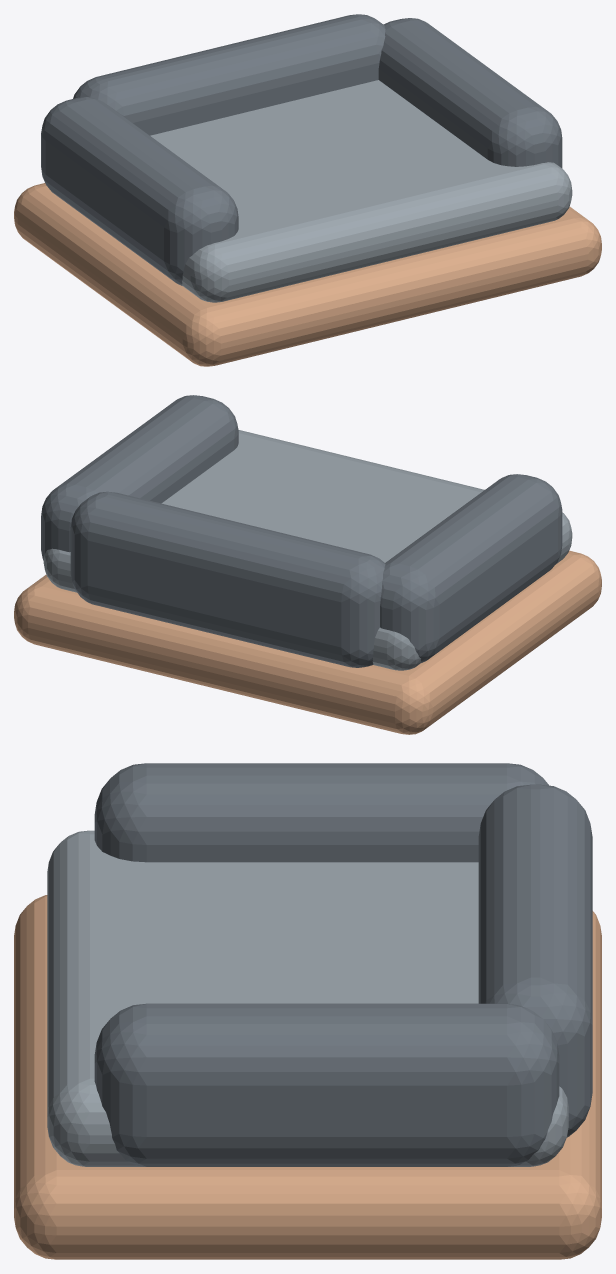
File: cat_sleep_pod.glb
3 views of the same model, one above another, from view 1: azimuth 30°, elevation 25°; view 2: azimuth 150°, elevation 25°; view 3: azimuth 270°, elevation 25° (orthographic). The views are drawn at different scales.
Visible parts, largest first — view 1: shell_002, shell_001, shell_003, shell_005, shell_004; view 2: shell_005, shell_001, shell_002, shell_003, shell_004; view 3: shell_002, shell_004, shell_001, shell_003, shell_005.
Boxes of the visible parts, left/top/right/bottom form: shell_002: left=150, top=80, right=572, bottom=302; shell_001: left=14, top=183, right=601, bottom=366; shell_003: left=41, top=97, right=238, bottom=285; shell_005: left=73, top=14, right=385, bottom=135; shell_004: left=378, top=18, right=562, bottom=168; shell_005: left=70, top=491, right=385, bottom=667; shell_001: left=14, top=550, right=601, bottom=734; shell_002: left=43, top=429, right=572, bottom=670; shell_003: left=380, top=474, right=562, bottom=662; shell_004: left=41, top=395, right=238, bottom=560; shell_002: left=47, top=830, right=568, bottom=1166; shell_004: left=94, top=1003, right=559, bottom=1166; shell_001: left=14, top=895, right=601, bottom=1259; shell_003: left=94, top=763, right=548, bottom=862; shell_005: left=478, top=784, right=592, bottom=1137.
Size of the model in its own units: 0.77 by 0.275 by 0.62.
